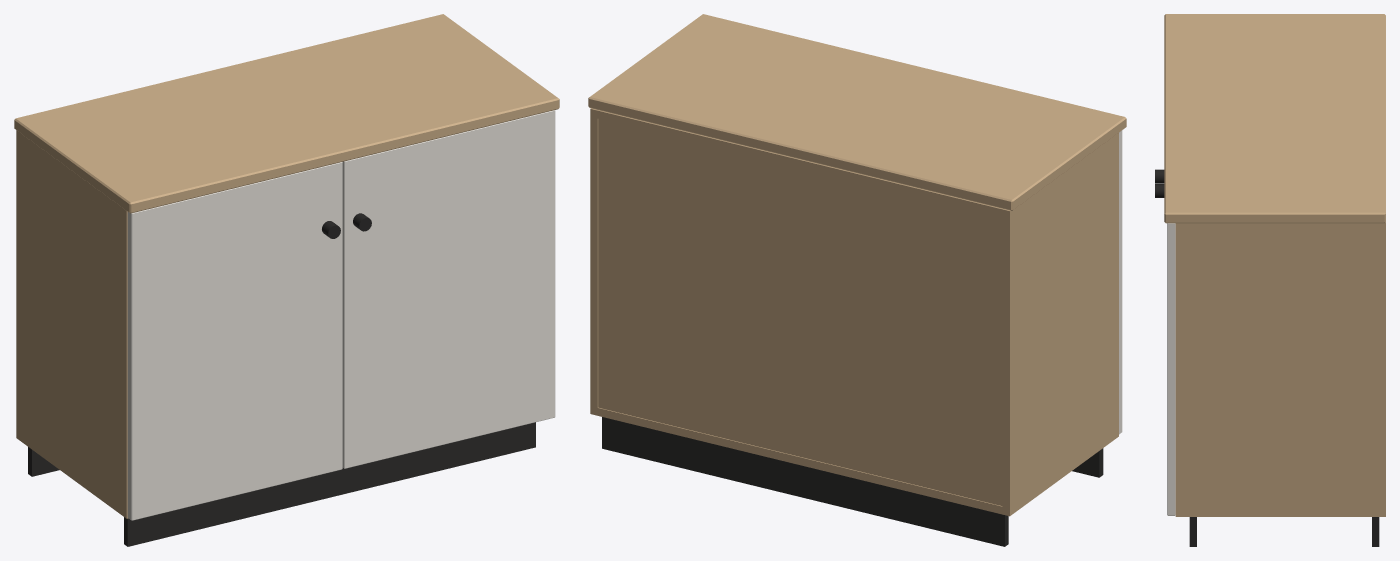
File: 42_komoda_100_2d.glb
The picture shows the model from 3 angles, left to right: view 1: azimuth 30°, elevation 25°; view 2: azimuth 150°, elevation 25°; view 3: azimuth 270°, elevation 25°; orthographic projection. The views are drawn at different scales.
Visible parts, largest first — view 1: Front_drzwi_1, Front_drzwi_2, Wierzch, Korpus, Cokol; view 2: Korpus, Wierzch, Cokol, Front_drzwi_1; view 3: Korpus, Wierzch, Front_drzwi_2, Cokol.
Boxes of the visible parts, box(x1,y1,x2,y2) form: Front_drzwi_1: box(127, 162, 342, 520); Front_drzwi_2: box(342, 110, 555, 468); Wierzch: box(14, 14, 559, 213); Korpus: box(16, 130, 127, 518); Cokol: box(28, 422, 535, 546); Korpus: box(590, 108, 1118, 516); Wierzch: box(588, 14, 1126, 210); Cokol: box(602, 417, 1103, 546); Front_drzwi_1: box(1119, 130, 1122, 434); Korpus: box(1175, 222, 1385, 516); Wierzch: box(1164, 14, 1385, 223); Front_drzwi_2: box(1167, 223, 1175, 515); Cokol: box(1189, 517, 1379, 546).
Size of the model in its own units: 1.01 by 0.8 by 0.494.
